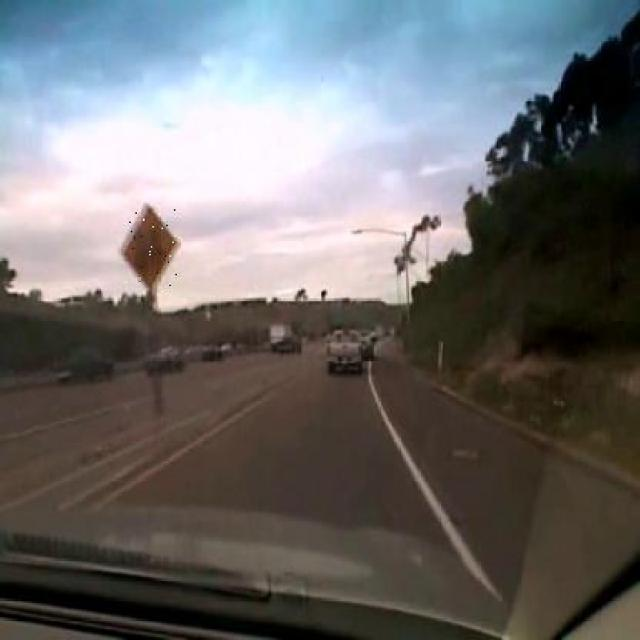addedLane: (122, 203, 180, 288)
